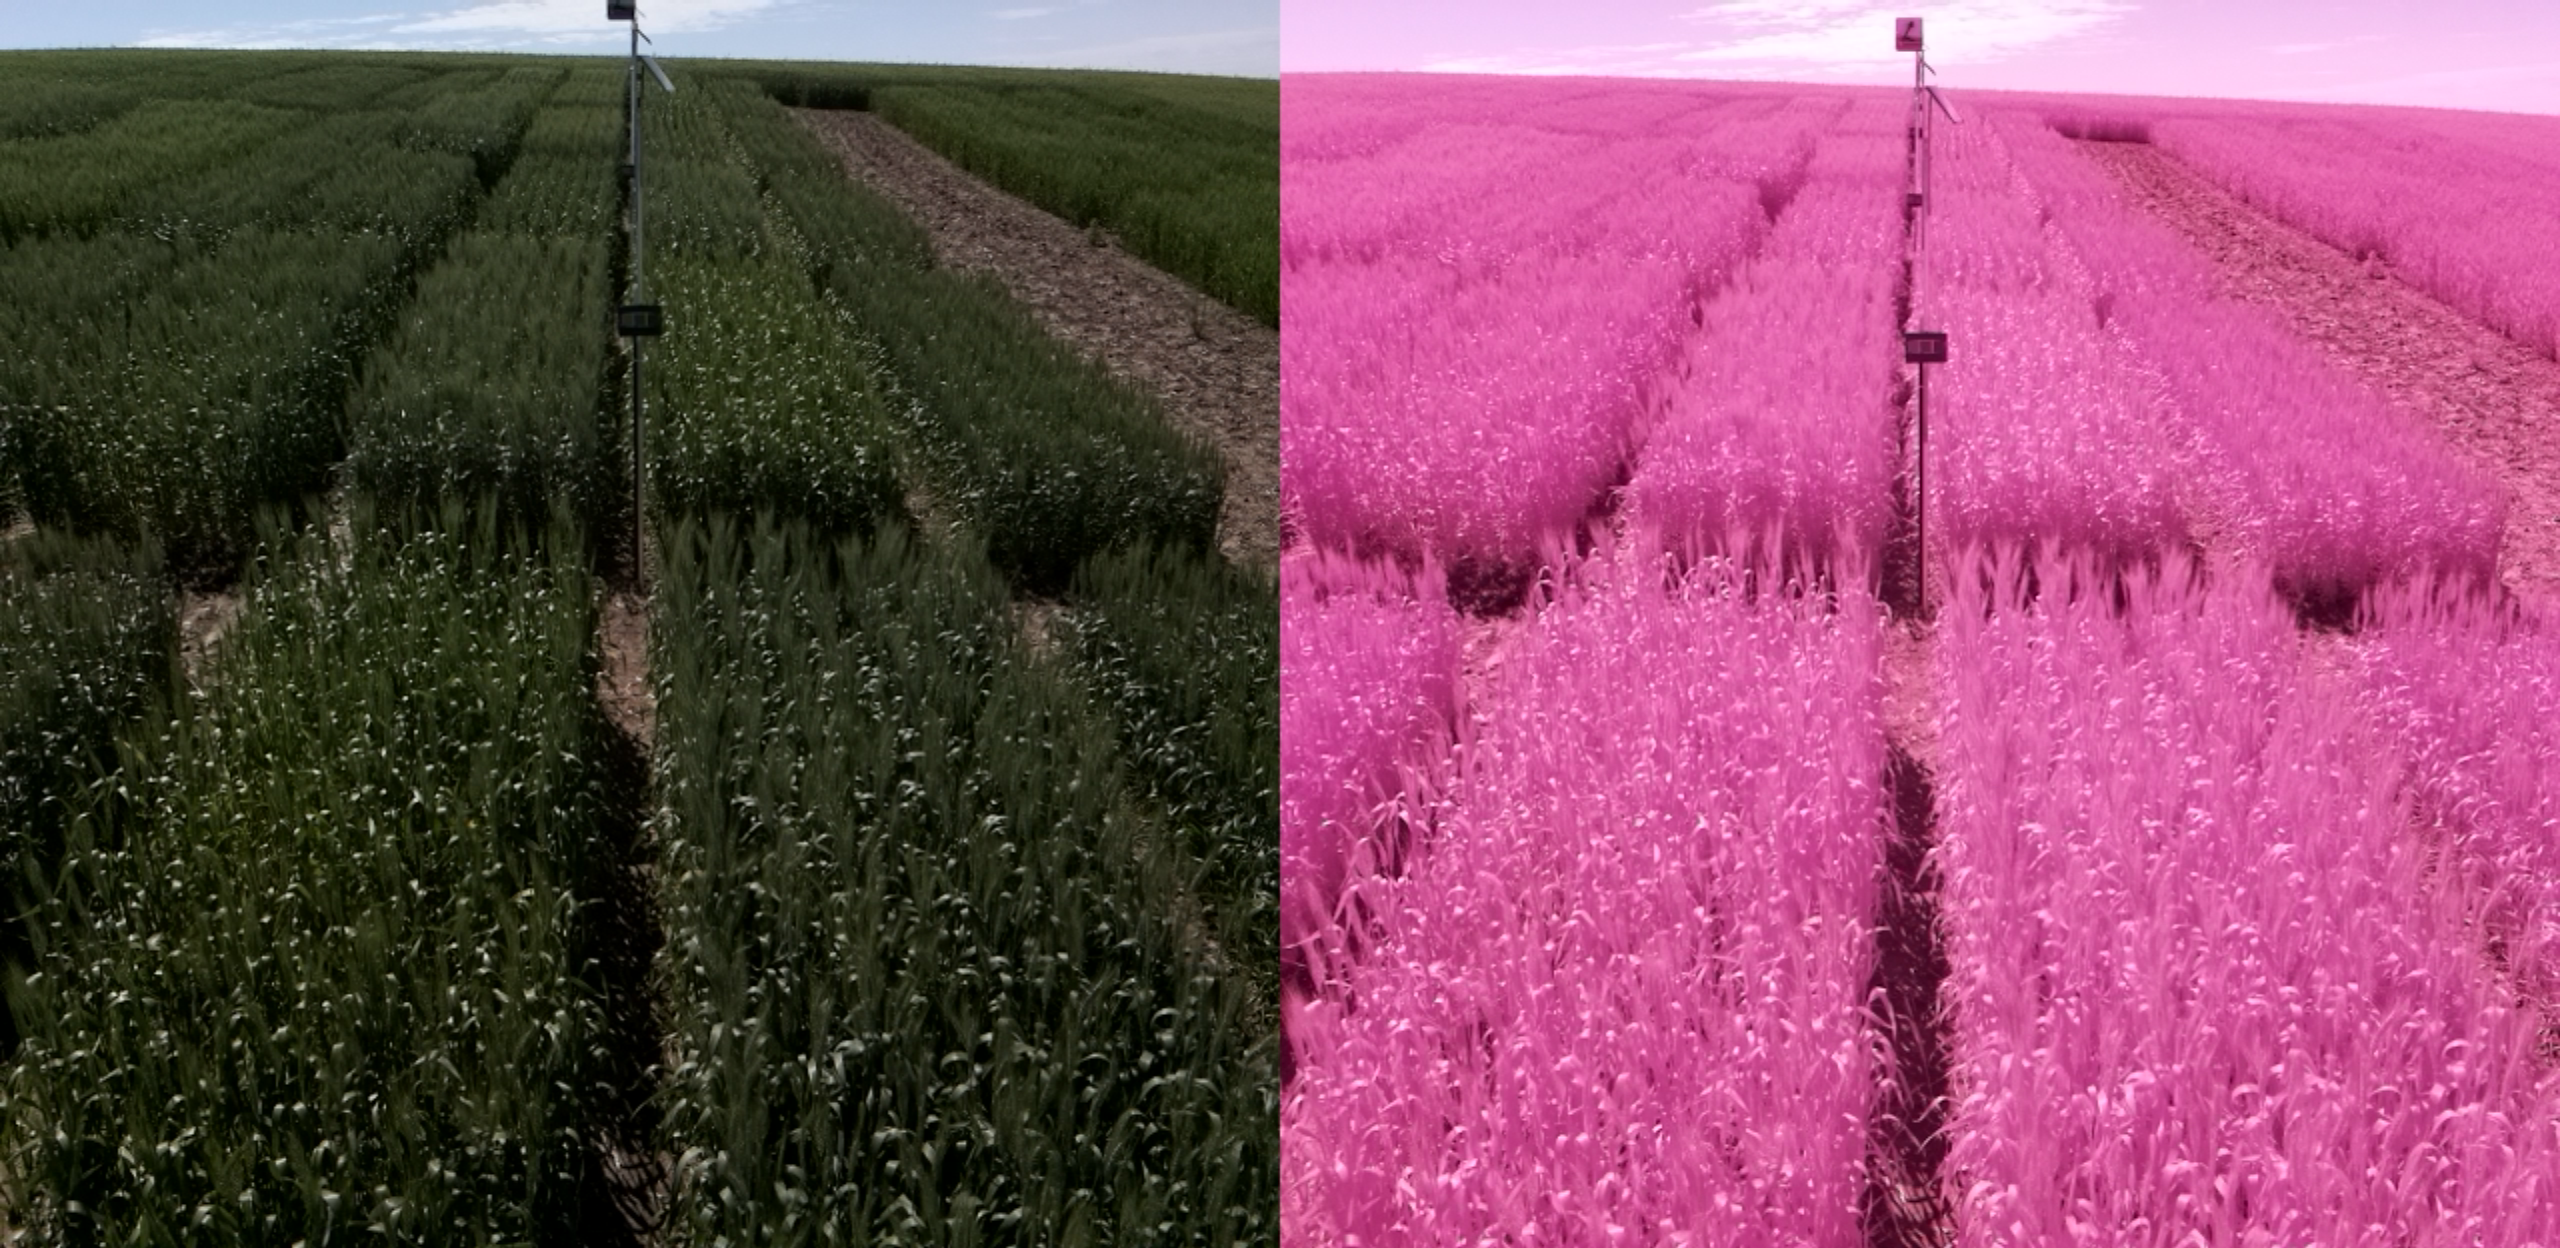box: (1905, 333, 1948, 363)
